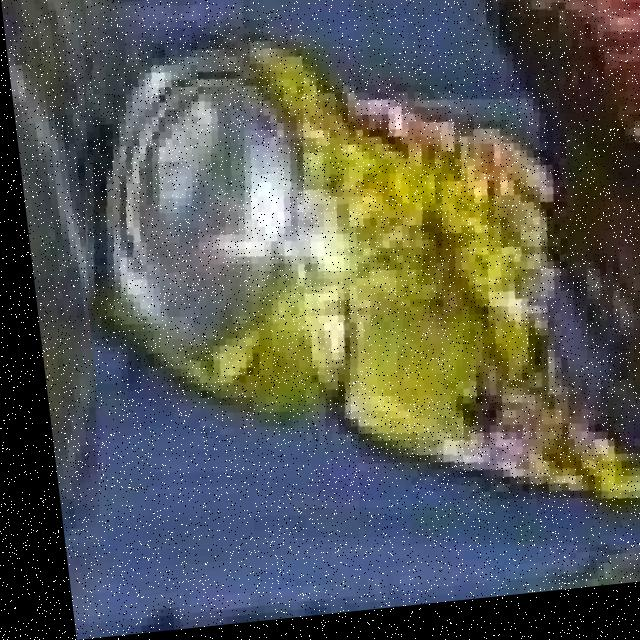litter: (82, 0, 640, 555)
